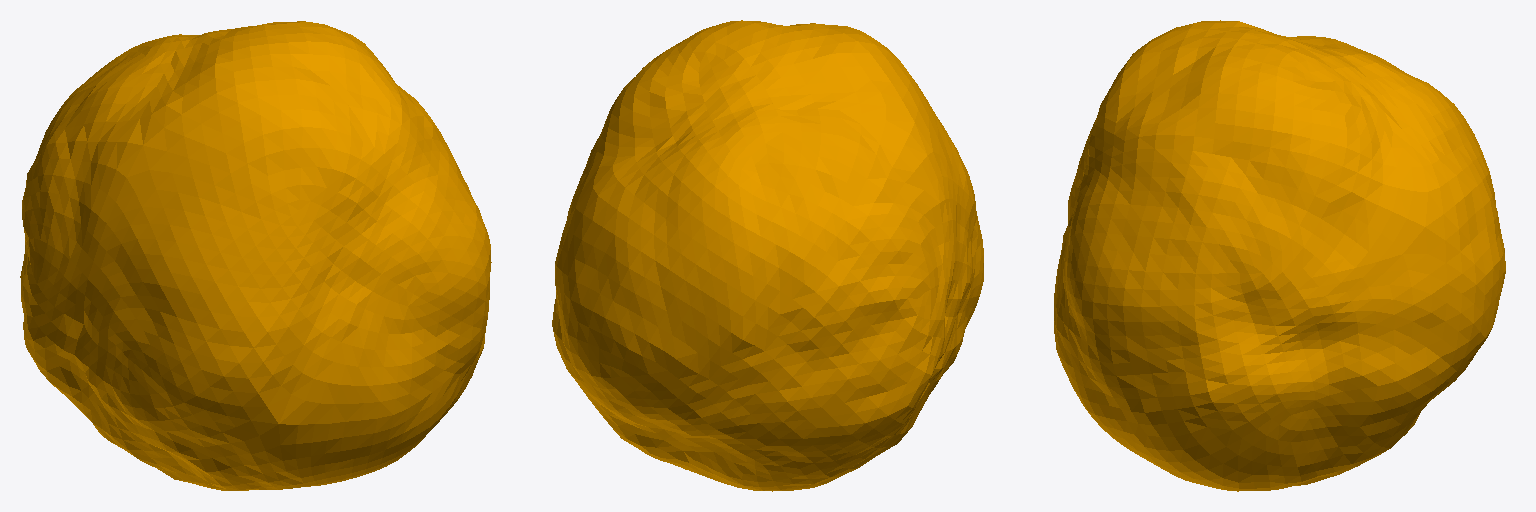
The robot description file, URDF, robot "rock":
<?xml version="1.0" ?>
<robot name="rock">
  <link name="rock">
    <inertial>
      <mass value="0.236"/>
      <origin rpy="0 0 0" xyz="0 0 0"/>
      <inertia ixx="0.000236" ixy="0" ixz="0" iyy="0.000236" iyz="0" izz="0.000236"/>
    </inertial>
    <collision name="rock_collision">
      <origin rpy="0 0 0" xyz="0 0 0"/>
      <geometry>
        <mesh filename="package://rocks/visual/219.dae" scale="1 1 1"/>
      </geometry>
    </collision>
    <visual name="rock_visual">
      <origin rpy="0 0 0" xyz="0 0 0"/>
      <geometry>
        <mesh filename="package://rocks/visual/219.dae" scale="1 1 1"/>
      </geometry>
    </visual>
  </link>
</robot>

--- Render facts (derived) ---
3 views of the same robot in one strip: view 1: azimuth 30°, elevation 25°; view 2: azimuth 150°, elevation 25°; view 3: azimuth 270°, elevation 25° (orthographic).
Robot: rock — 1 links, 0 joints (none); root link rock; default pose: every joint at zero.
Visible links, largest first — view 1: rock; view 2: rock; view 3: rock.
Link boxes in pixels (box(x1,y1,x2,y2)): rock: box(20, 21, 491, 490); rock: box(552, 20, 983, 491); rock: box(1054, 20, 1505, 491).
Size in the robot's own frame: 0.0633 by 0.0645 by 0.0667 metres.
Meshes: 1 distinct files referenced, 1 mesh visuals loaded (1 Collada DAE).